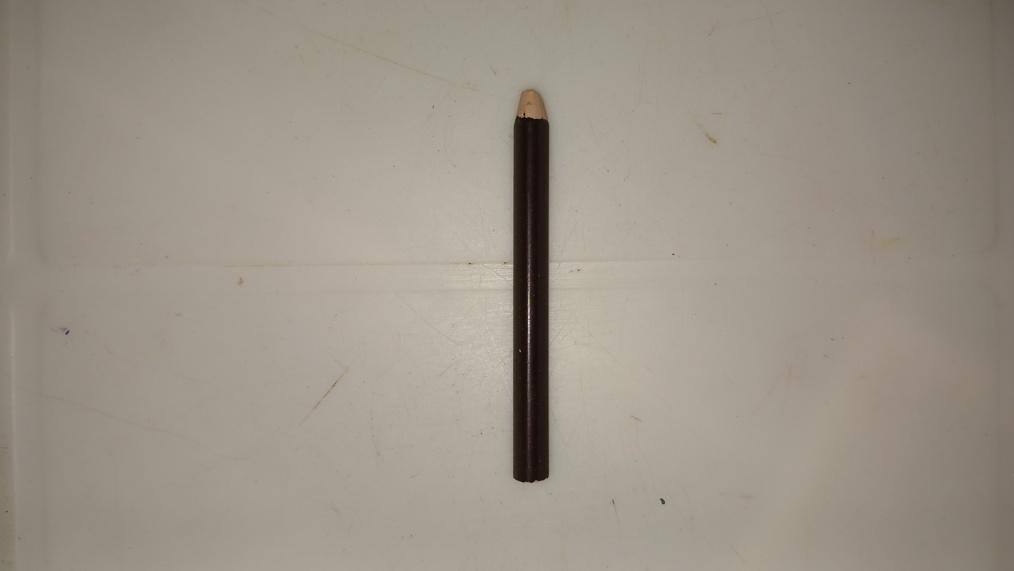Pencil: (514, 87, 550, 487)
